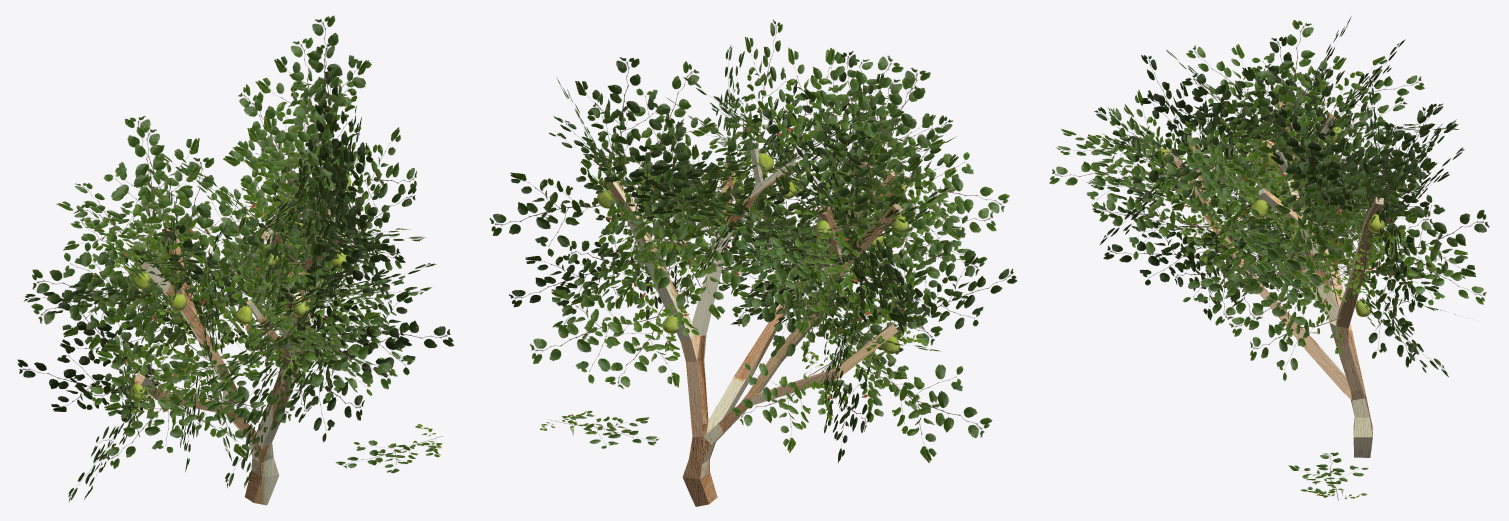
The model's file is guava.glb.
3 views of the same model, side by side, from view 1: azimuth 30°, elevation 25°; view 2: azimuth 150°, elevation 25°; view 3: azimuth 270°, elevation 25° (orthographic). The views are drawn at different scales.
Parts seen in each view (by area): view 1: Tree Branch (×80), Plane; view 2: Tree Branch (×75), Plane; view 3: Tree Branch (×62), Plane.
Boxes of the visible parts, box(x1,y1,x2,y2) form: Tree Branch (×80): box(17, 15, 454, 501); Plane: box(134, 183, 343, 505); Tree Branch (×75): box(489, 19, 1017, 462); Plane: box(603, 149, 903, 506); Tree Branch (×62): box(1049, 20, 1489, 500); Plane: box(1169, 101, 1383, 457).
Size of the model in its own units: 15.07 by 14.07 by 13.84.
Materials: 14 (14 with a texture image).
